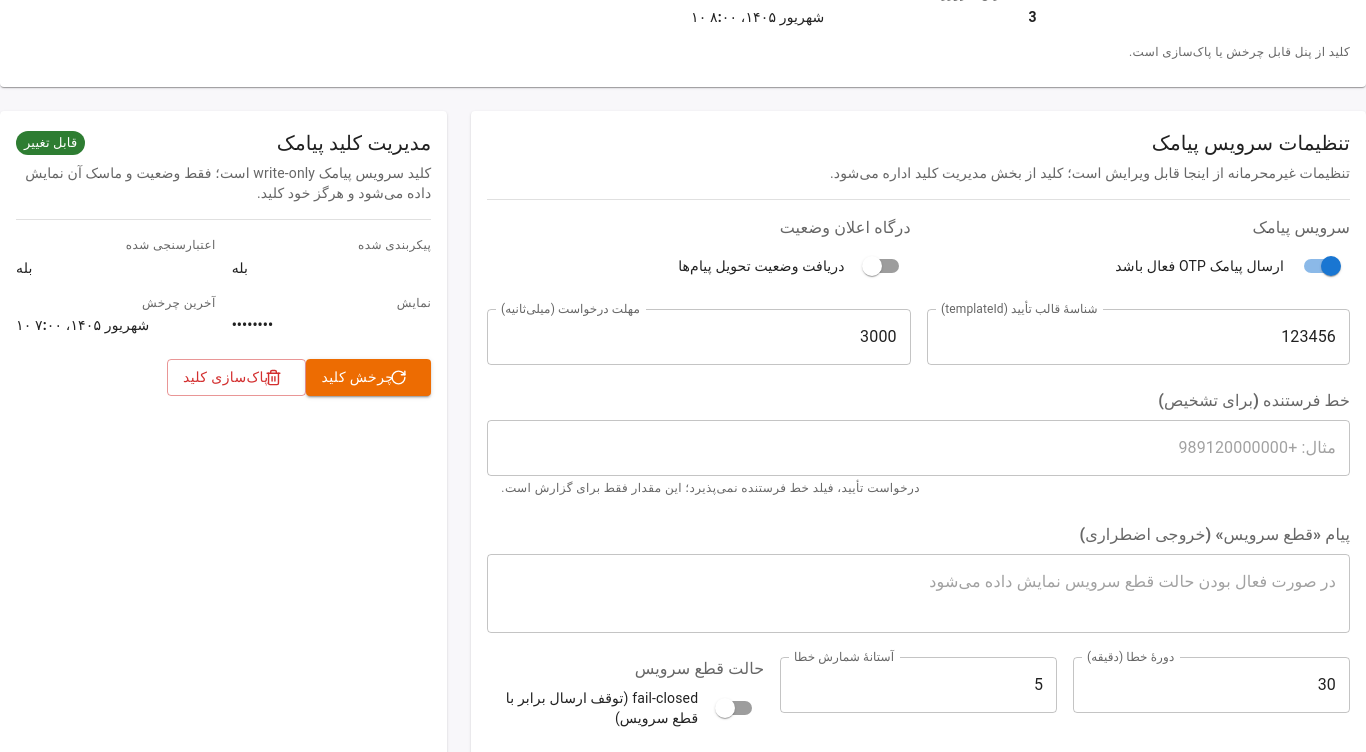
Scenario: SMS settings page (fixture flow) › clears the secret after explicit confirmation
(page scrolled)
Click the button "پاک‌سازی کلید". click: point(236, 378)
box: [167,360,306,396]
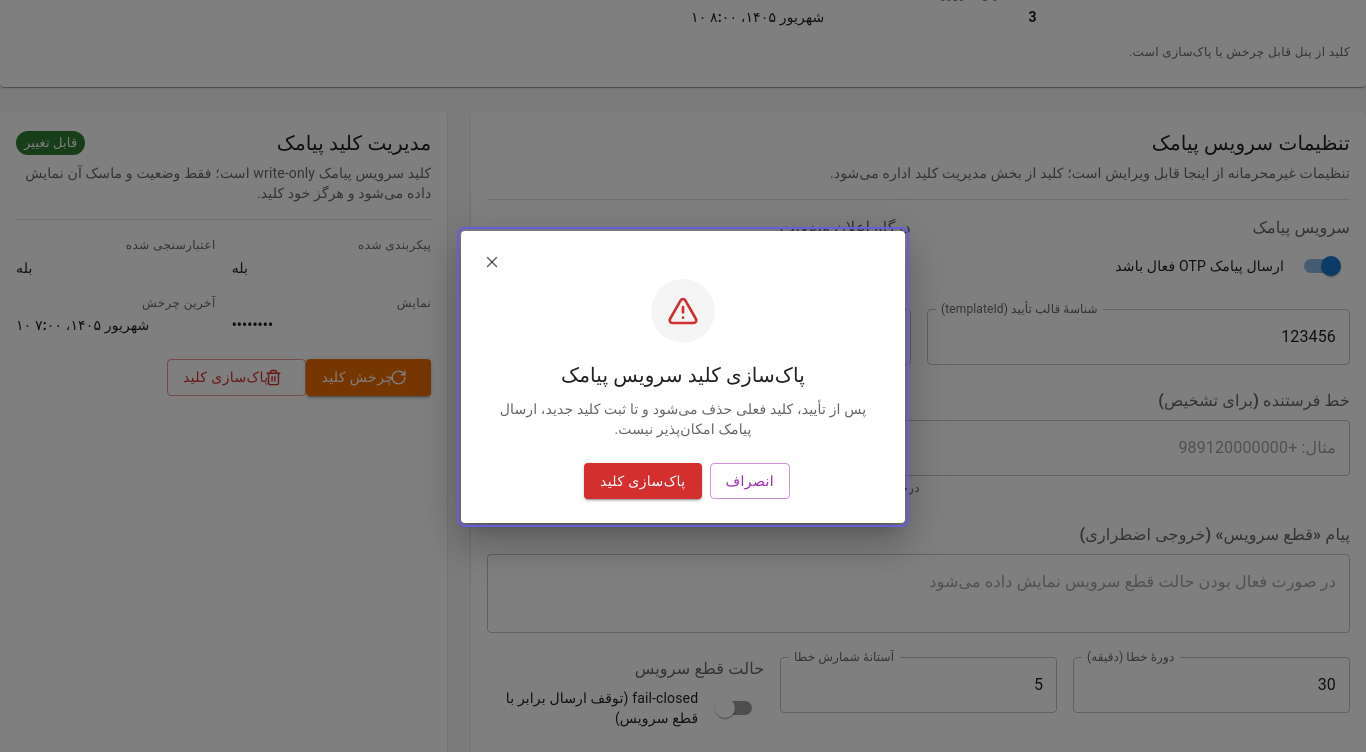
Click the button "پاک‌سازی کلید". click: point(643, 481)
box: [584,463,702,499]
(page scrolled)
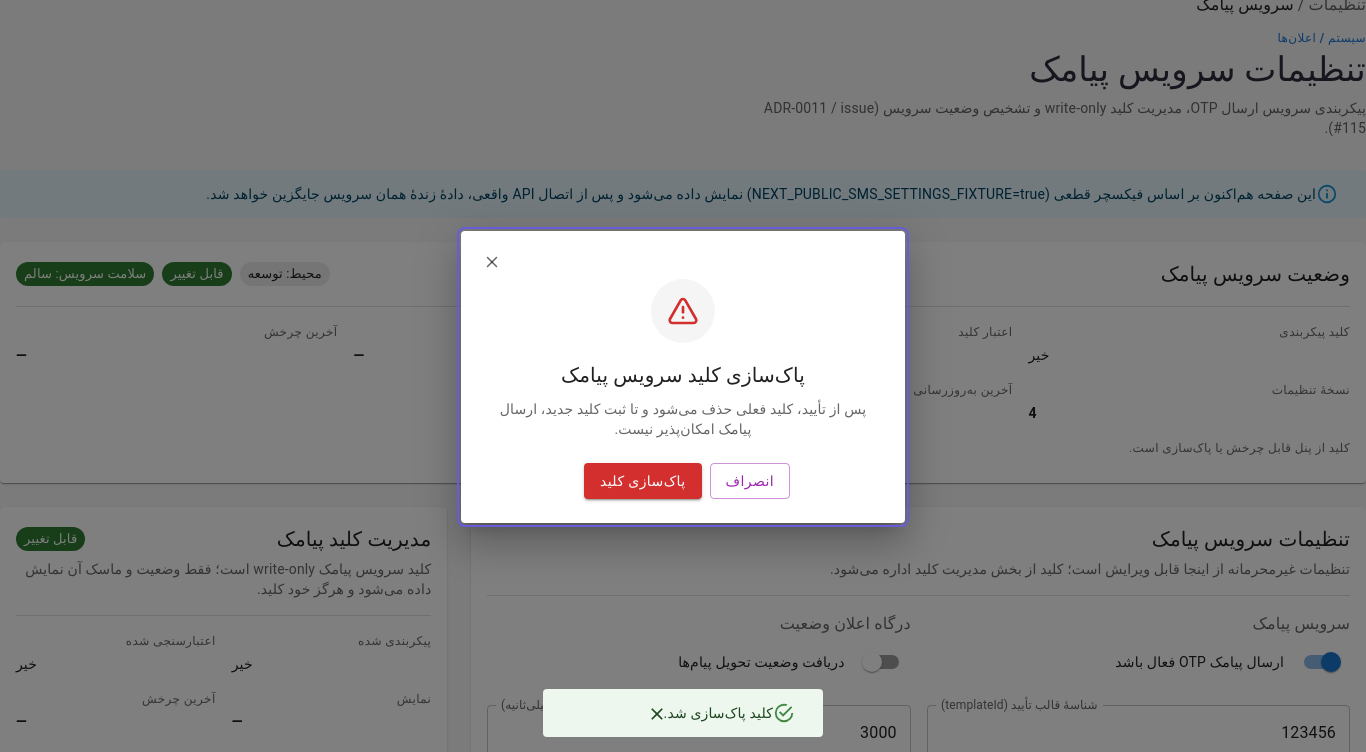
Now the text "کلید پاک‌سازی شد." is shown, box [664,705,773,721]
Now the text "خیر" is shown, box [1028,347,1050,363]
